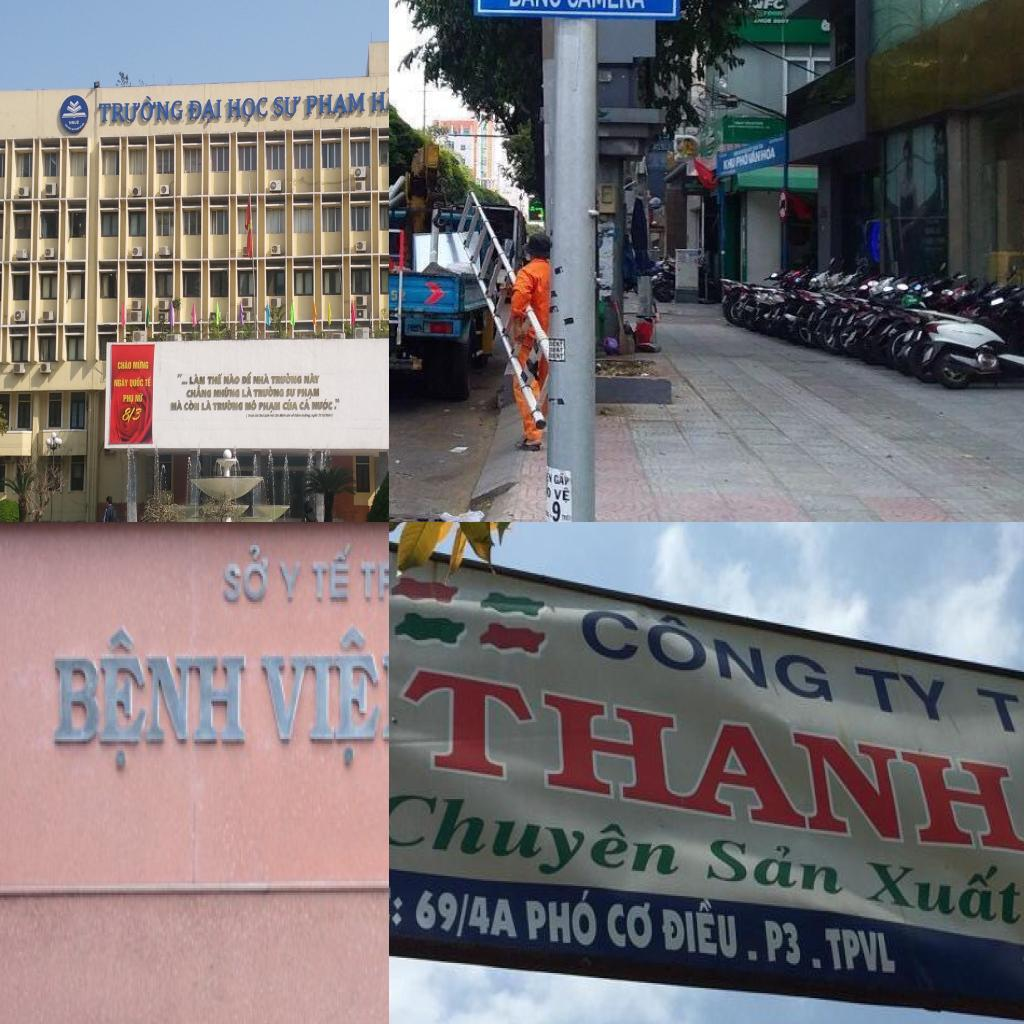text: (402, 667, 1024, 856), (49, 621, 250, 777), (389, 782, 682, 889), (581, 602, 839, 707), (256, 620, 389, 772), (867, 859, 1024, 931), (701, 836, 846, 903), (848, 664, 952, 730), (660, 898, 744, 963), (522, 889, 600, 953), (822, 924, 896, 980), (975, 686, 1024, 770), (220, 542, 272, 606), (466, 891, 523, 948), (310, 540, 356, 609), (604, 900, 658, 952), (98, 94, 183, 124), (762, 916, 805, 973), (412, 890, 461, 940), (306, 91, 366, 120), (359, 557, 389, 606), (277, 557, 304, 607), (227, 96, 269, 122), (186, 97, 223, 124), (389, 879, 408, 929), (567, 0, 649, 10), (456, 891, 471, 945), (274, 93, 302, 120), (371, 81, 389, 114), (311, 395, 341, 412), (508, 0, 564, 9), (121, 406, 144, 424), (253, 386, 285, 398), (271, 373, 302, 385), (186, 384, 212, 398), (213, 400, 243, 412), (212, 386, 240, 398), (552, 486, 571, 503), (258, 400, 281, 414), (552, 472, 571, 488), (297, 387, 321, 399), (762, 0, 787, 11), (762, 146, 778, 163), (551, 498, 562, 522), (303, 372, 320, 386), (253, 372, 271, 385), (722, 156, 736, 172), (736, 154, 750, 170), (748, 150, 762, 165), (190, 372, 206, 385), (207, 372, 223, 385), (184, 399, 200, 412), (224, 373, 240, 385), (282, 399, 298, 411), (132, 360, 150, 370), (129, 376, 144, 388), (169, 399, 183, 411), (244, 399, 258, 411), (113, 377, 129, 387), (176, 372, 188, 385), (117, 360, 132, 370), (389, 289, 399, 304), (122, 393, 134, 405), (299, 399, 311, 411), (242, 371, 252, 385), (201, 400, 212, 412), (242, 386, 252, 398), (134, 392, 144, 402), (286, 388, 296, 398), (145, 374, 152, 388), (245, 412, 255, 418), (69, 120, 79, 125), (301, 413, 311, 418), (294, 412, 302, 418), (311, 412, 319, 418), (274, 412, 280, 418), (279, 413, 286, 418), (74, 126, 80, 131), (264, 413, 270, 418), (270, 412, 275, 418), (290, 412, 295, 418), (286, 413, 291, 418), (81, 121, 85, 127), (258, 414, 264, 418), (255, 413, 259, 418), (68, 126, 72, 130), (65, 123, 68, 128), (79, 125, 82, 129), (72, 127, 74, 131)
